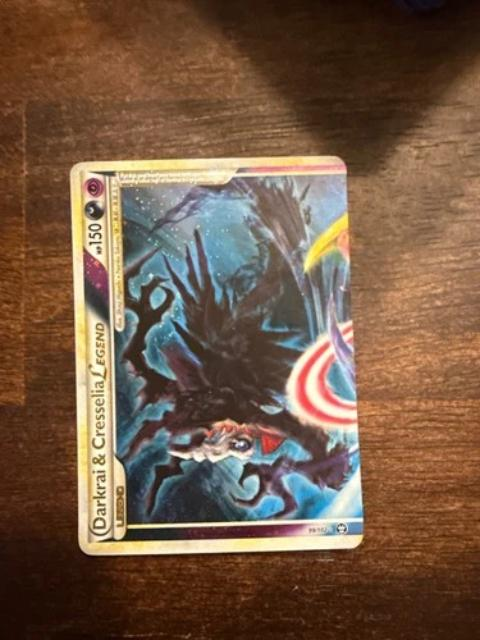Card: (65, 152, 368, 560)
Name: (85, 312, 114, 537)
